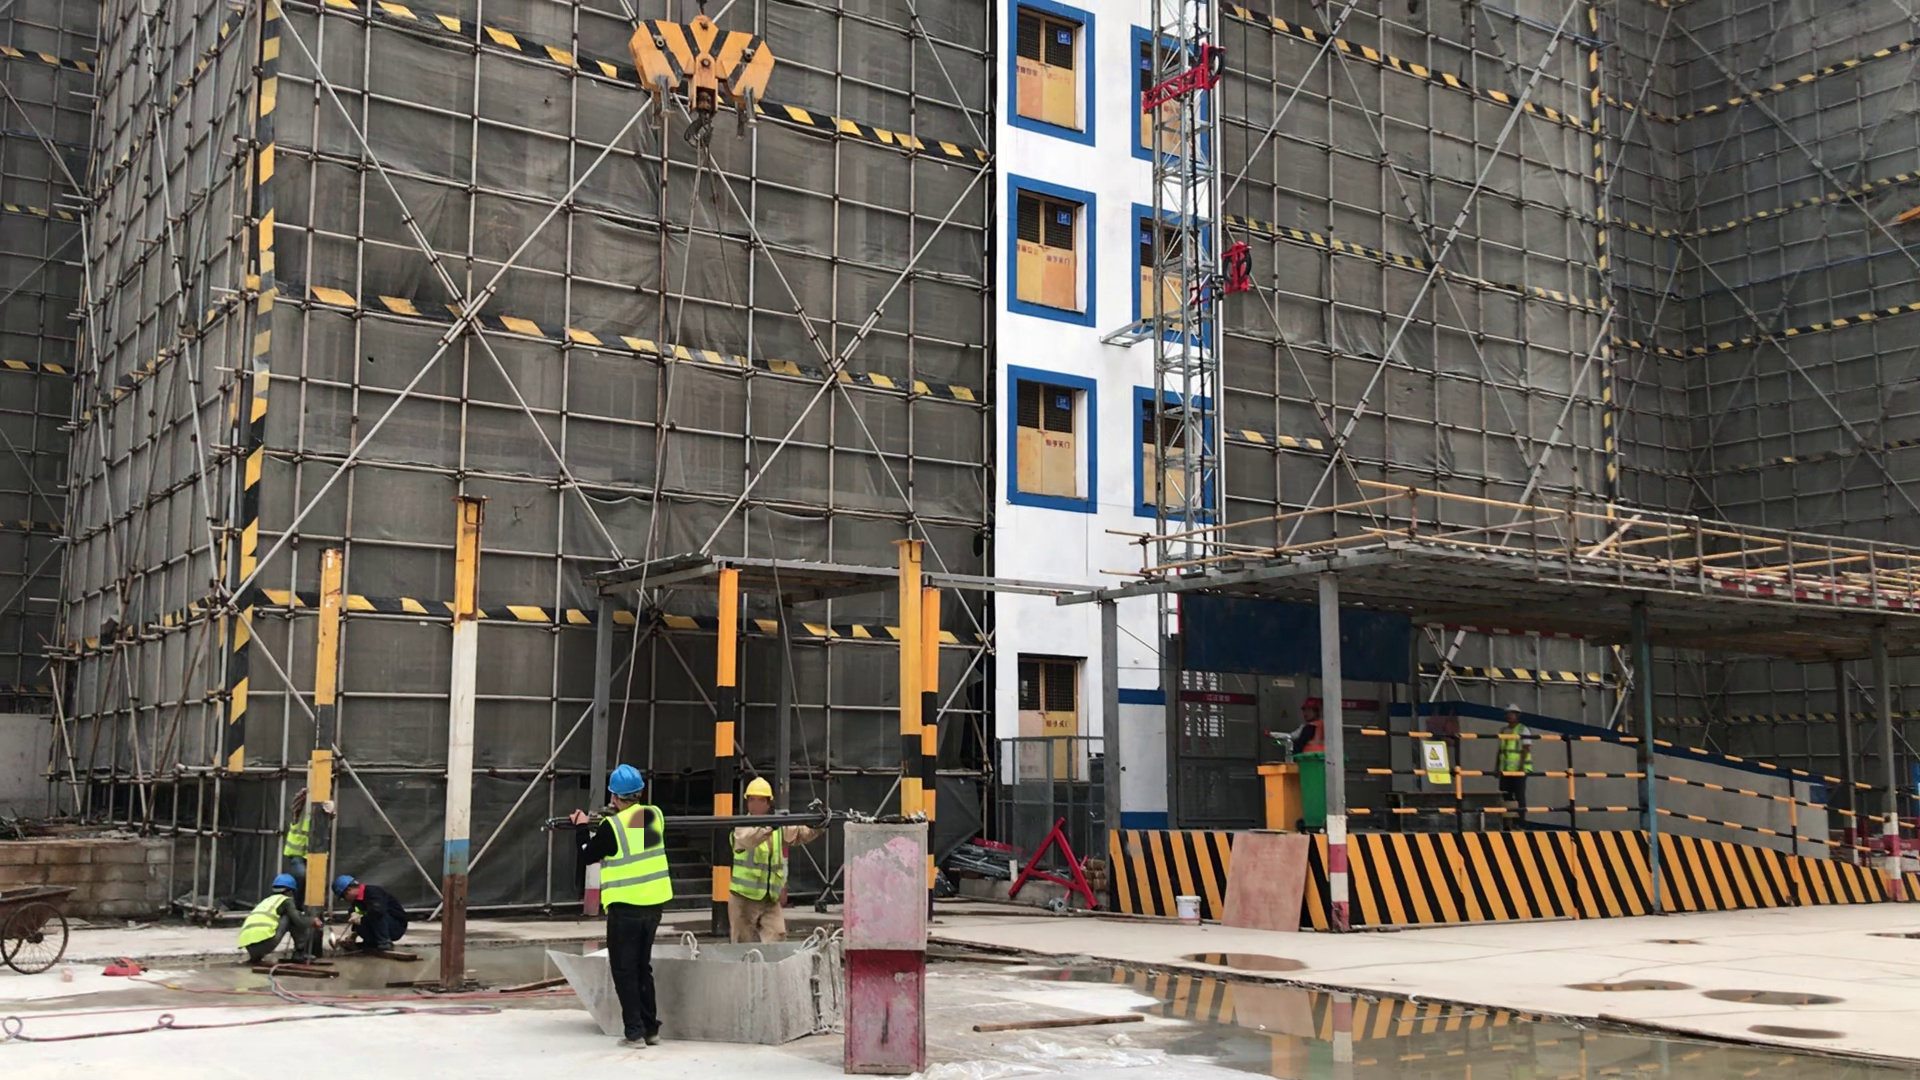fence: (1340, 716, 1918, 881)
handcart: (2, 859, 90, 982)
helmet: (596, 757, 659, 807), (727, 769, 786, 806), (256, 857, 298, 901), (328, 866, 366, 904), (1493, 699, 1527, 717), (1297, 692, 1321, 712)
hook: (611, 9, 807, 149)
hopper: (540, 919, 845, 1050)
person: (570, 742, 693, 1062), (728, 741, 802, 980), (225, 845, 324, 979), (317, 862, 431, 976), (1502, 677, 1559, 846), (1290, 679, 1359, 804), (275, 758, 342, 873)
rebar: (657, 808, 860, 838), (523, 808, 598, 840)
slogan: (1411, 730, 1465, 800)
vest: (592, 803, 681, 915), (726, 808, 793, 904), (239, 892, 281, 951), (281, 794, 319, 857), (1496, 718, 1535, 777), (1297, 717, 1331, 753)
